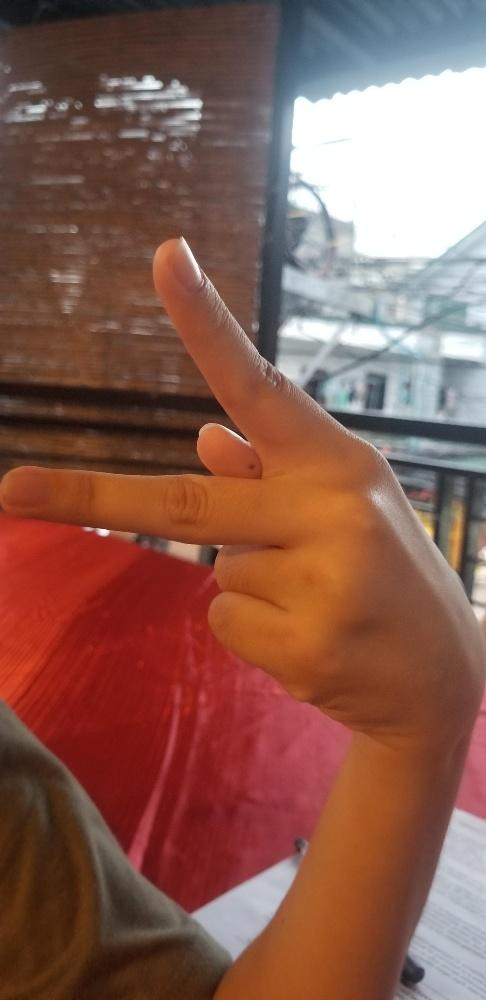k: (0, 235, 485, 733)
